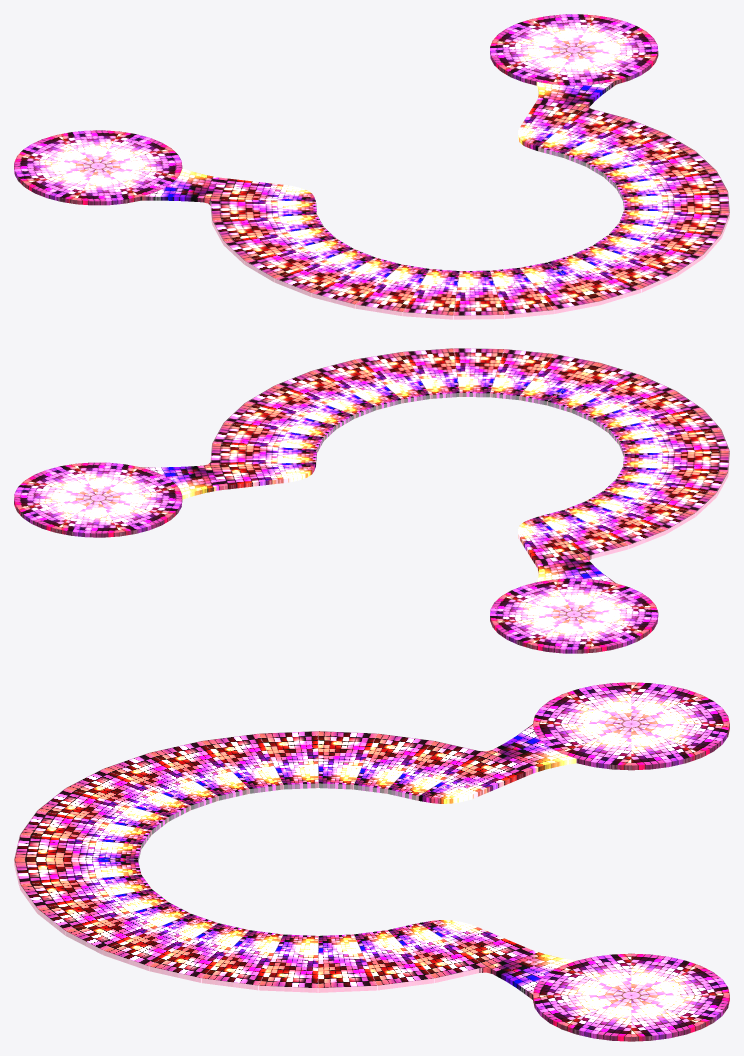
Rendered from dance_floor.glb.
The picture shows the model from 3 angles, top to bottom: view 1: azimuth 30°, elevation 25°; view 2: azimuth 150°, elevation 25°; view 3: azimuth 270°, elevation 25°; orthographic projection. The views are drawn at different scales.
Visible parts, largest first — view 1: Dance Floor; view 2: Dance Floor; view 3: Dance Floor.
Boxes of the visible parts, x1,y1,x2,y2 form: Dance Floor: [14, 14, 729, 319]; Dance Floor: [14, 348, 729, 653]; Dance Floor: [14, 682, 729, 1041].
Size of what is drawn, in the model's own units: 22.96 by 0.14 by 19.59.
Materials: 1 (1 with a texture image).
